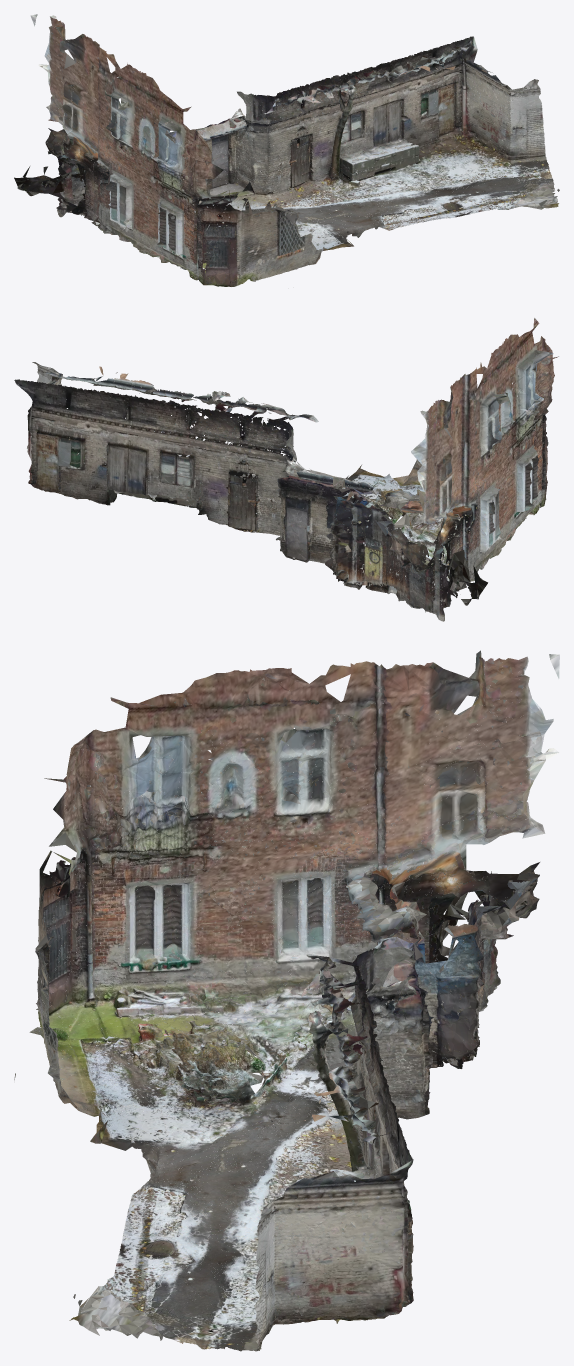
Rendered from courtyard.glb.
The picture shows the model from 3 angles, top to bottom: view 1: azimuth 30°, elevation 25°; view 2: azimuth 150°, elevation 25°; view 3: azimuth 270°, elevation 25°; orthographic projection. The views are drawn at different scales.
Parts seen in each view (by area): view 1: Stereo textured mesh; view 2: Stereo textured mesh; view 3: Stereo textured mesh.
Part boxes in pixels (<box>): Stereo textured mesh: <box>14,14,559,286</box>; Stereo textured mesh: <box>14,318,558,621</box>; Stereo textured mesh: <box>14,650,559,1351</box>.
Size of the model in its own units: 10.49 by 4.27 by 6.02.
3 materials, 3 textured.
